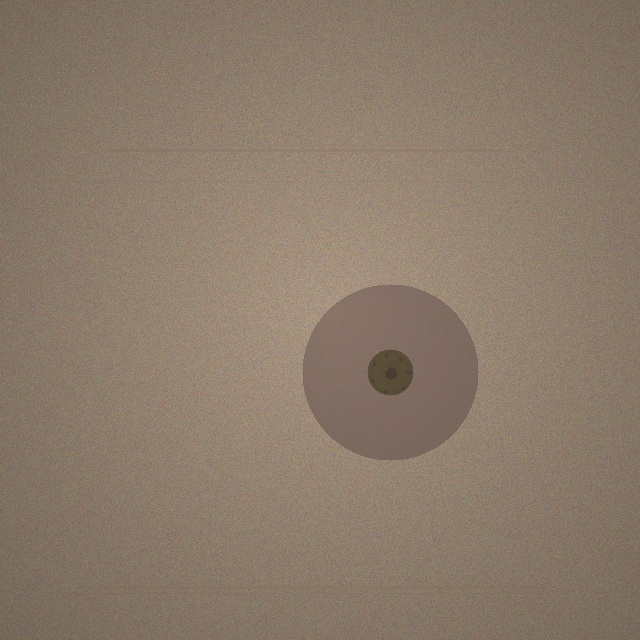cold_weld: (302, 284, 478, 460)
